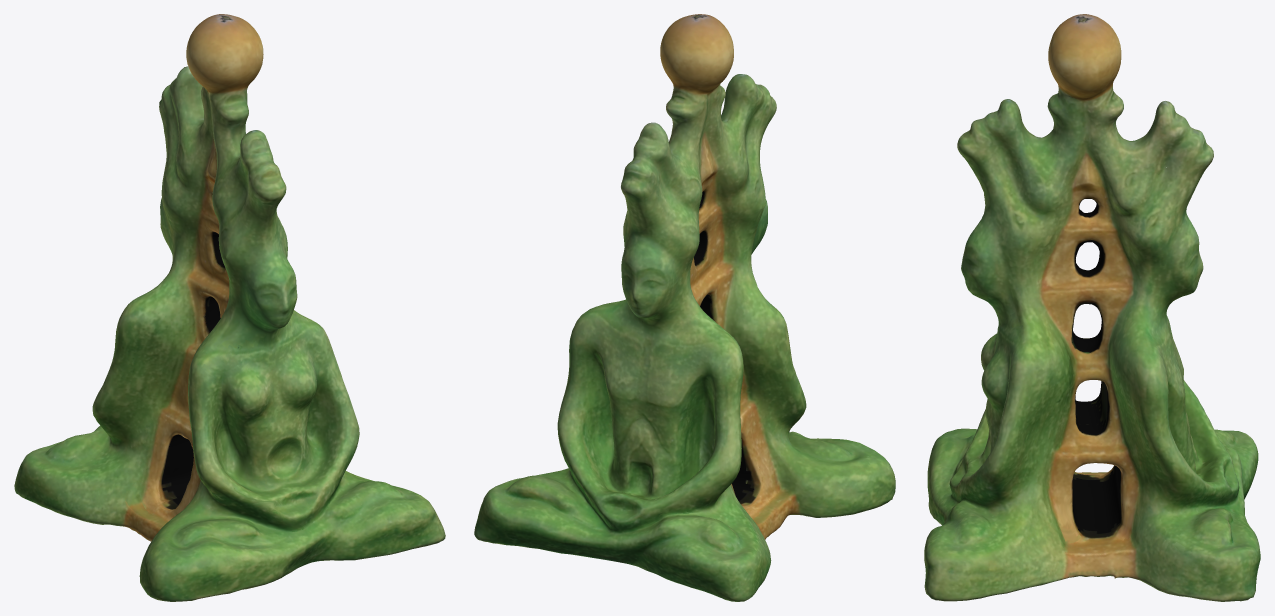
Rendered from sansanwal-horse-of-the-mind.glb.
The picture shows the model from 3 angles, left to right: view 1: azimuth 30°, elevation 25°; view 2: azimuth 150°, elevation 25°; view 3: azimuth 270°, elevation 25°; orthographic projection. The views are drawn at different scales.
Parts seen in each view (by area): view 1: lo; view 2: lo; view 3: lo.
Part boxes in pixels (left/top/right/bottom): lo: left=14, top=14, right=445, bottom=601; lo: left=474, top=14, right=895, bottom=601; lo: left=924, top=14, right=1260, bottom=601.
Bounding box in the file's own units: 0.3034 × 0.51 × 0.3049.
Materials: 1 (1 with a texture image).
